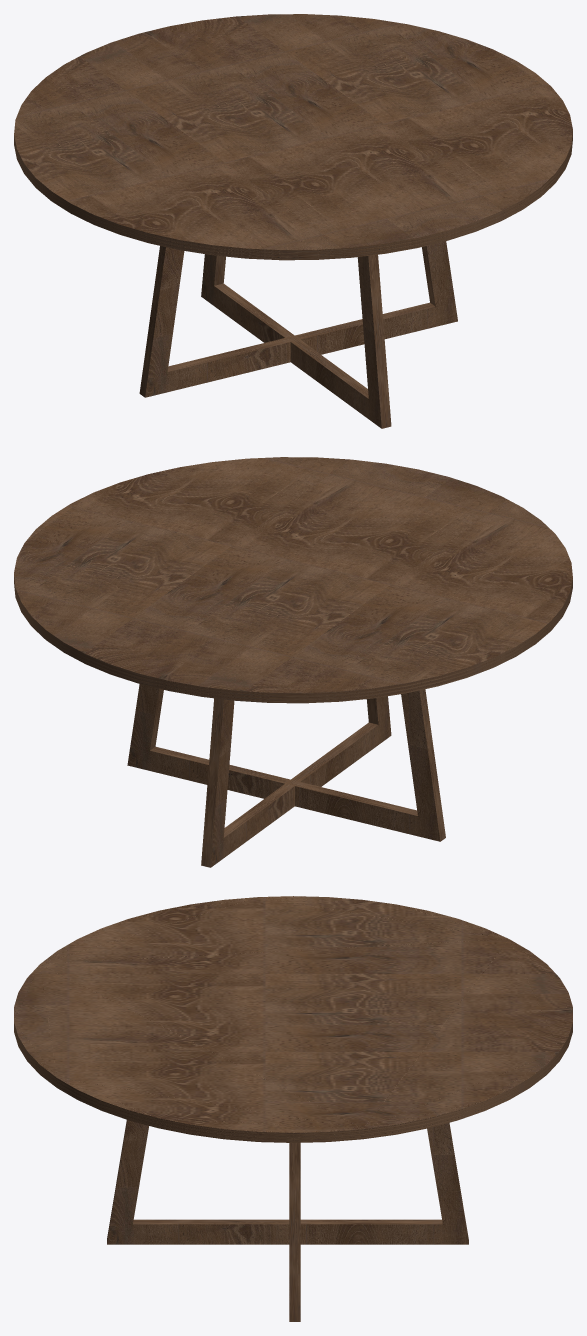
File: table.gltf
The picture shows the model from 3 angles, top to bottom: view 1: azimuth 30°, elevation 25°; view 2: azimuth 150°, elevation 25°; view 3: azimuth 270°, elevation 25°; orthographic projection.
Visible parts, largest first — view 1: Line002; view 2: Line002; view 3: Line002.
Boxes of the visible parts, bbox=[...] form: Line002: bbox=[14, 14, 572, 428]; Line002: bbox=[14, 457, 572, 867]; Line002: bbox=[14, 896, 572, 1321].
Size of the model in its own units: 1 by 0.4489 by 0.998.
Materials: 1 (1 with a texture image).
